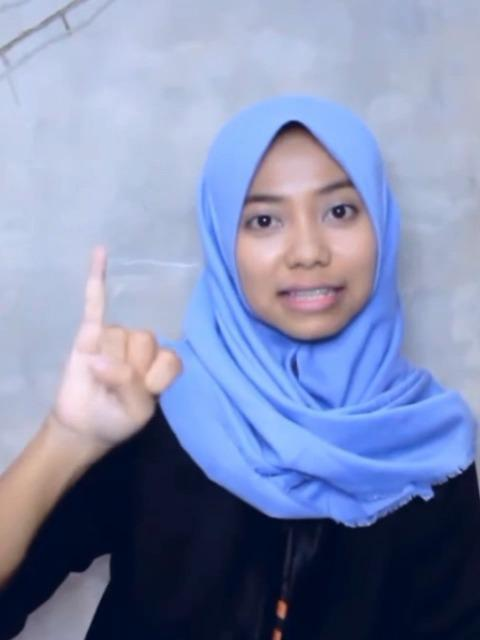I: (57, 244, 181, 440)
